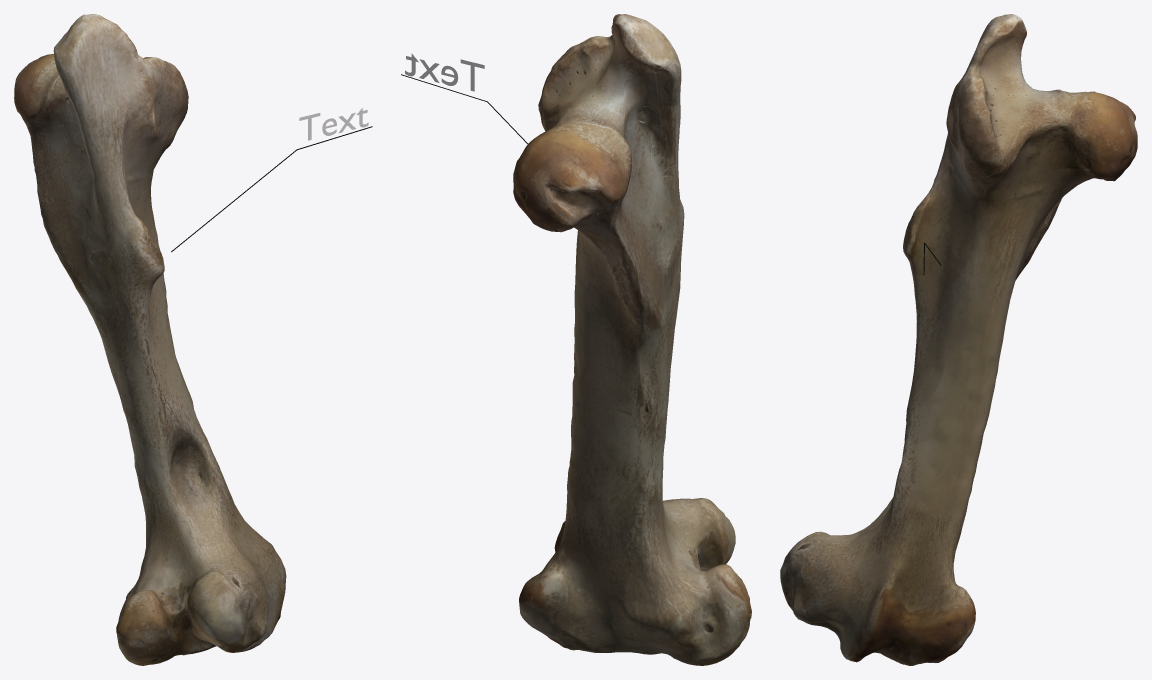
Rendered from Femur-editado_modelo1.1.glb.
The picture shows the model from 3 angles, left to right: view 1: azimuth 30°, elevation 25°; view 2: azimuth 150°, elevation 25°; view 3: azimuth 270°, elevation 25°; orthographic projection. The views are drawn at different scales.
Parts seen in each view (by area): view 1: Mesh_0, Texto; view 2: Mesh_0, Texto; view 3: Mesh_0.
Part boxes in pixels (x1,y1,x2,y2): Mesh_0: (14,14,286,665); Texto: (299,108,368,140); Mesh_0: (513,14,751,665); Texto: (405,53,484,91); Mesh_0: (780,14,1137,665).
Bounding box in the file's own units: 0.9108 × 1.88 × 0.9956.
Materials: 3 (1 with a texture image).
